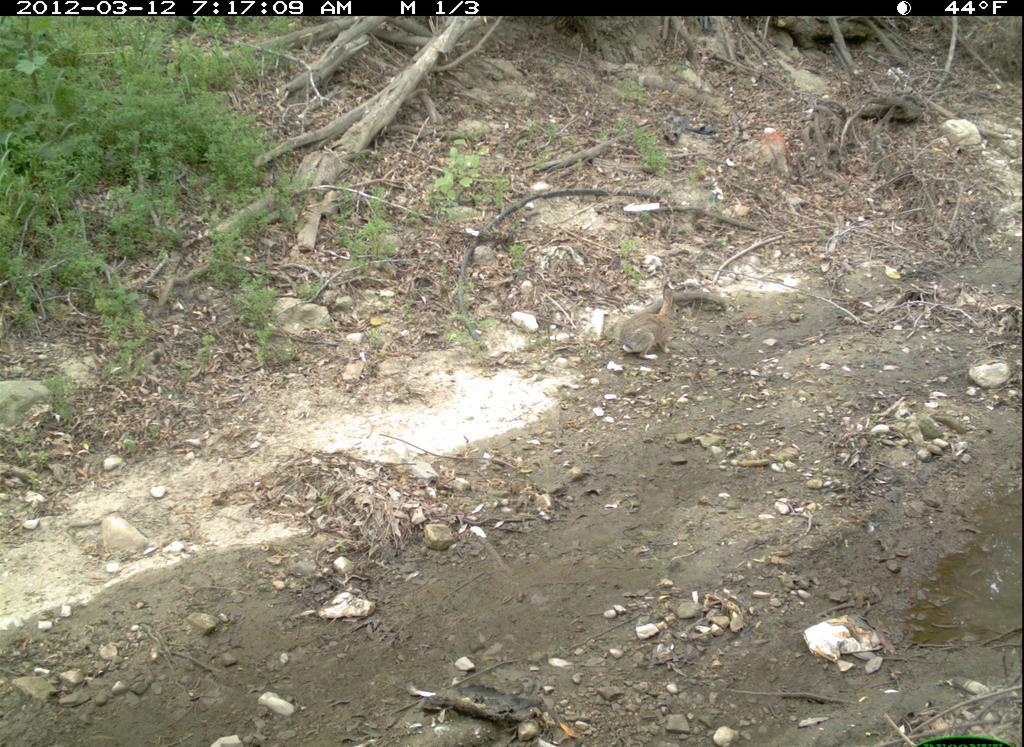rabbit: (610, 268, 711, 383)
